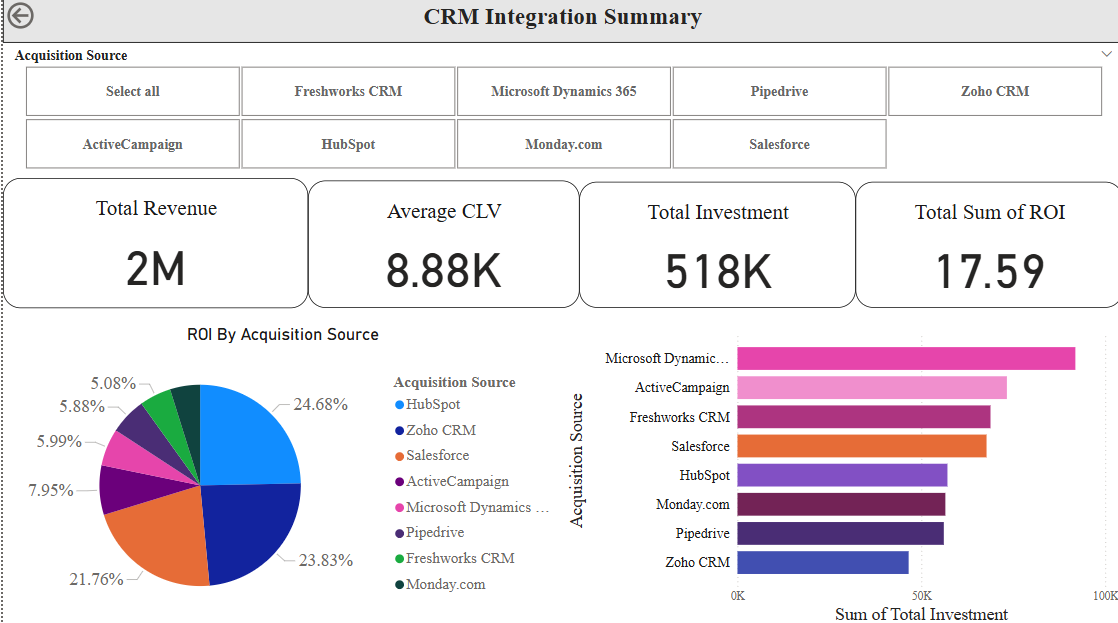

What the dashboard file says about the page in this screenshot:
{"tool":"powerbi","page":{"name":"CRM Integration Summary","canvas":[1280,720],"ordinal":0},"visuals":[{"type":"textbox","box":[0,0,1280,51.4],"z":0},{"type":"card","title":"Total Revenue","fields":{"Values":["Sum(CRM_ROI_Enriched.Total Revenue)"]},"box":[0,205.7,348.6,148.6],"z":1000},{"type":"card","title":"Average CLV","fields":{"Values":["Sum(CRM_ROI_Enriched.Avg CLV)"]},"box":[348.6,208.6,310,145.7],"z":2000},{"type":"card","title":"Total Investment","fields":{"Values":["Sum(CRM_ROI_Enriched.Total Investment)"]},"box":[658.6,210,315.7,144.3],"z":3000},{"type":"slicer","fields":{"Values":["CRM_ROI_Enriched.acquisition_source"]},"box":[0,51.2,1280,150],"z":4000},{"type":"card","title":"Total Sum of ROI","fields":{"Values":["Sum(CRM_ROI_Enriched.ROI)"]},"box":[974.3,210,305.7,144.3],"z":5000},{"type":"actionButton","box":[0,0,100,40],"z":6000},{"type":"pieChart","title":"ROI By Acquisition Source","fields":{"Category":["CRM_ROI_Enriched.acquisition_source"],"Y":["Sum(CRM_ROI_Enriched.ROI)"]},"box":[0,372.9,640,347.1],"z":7000},{"type":"barChart","fields":{"Category":["CRM_ROI_Enriched.acquisition_source"],"Y":["Sum(CRM_ROI_Enriched.Total Investment)"]},"box":[640,372.9,640,347.1],"z":8000}]}

Visuals, with their boxes on the page's 1280x720 design canvas (x1, y1, x2, y2). These are canvas units, not pixel positions in the 1118x623 screenshot, which may show the page scaled, cropped or inside an application window:
textbox: x1=0, y1=0, x2=1280, y2=51
"Total Revenue" card: x1=0, y1=206, x2=349, y2=354
"Average CLV" card: x1=349, y1=209, x2=659, y2=354
"Total Investment" card: x1=659, y1=210, x2=974, y2=354
slicer - CRM_ROI_Enriched.acquisition_source: x1=0, y1=51, x2=1280, y2=201
"Total Sum of ROI" card: x1=974, y1=210, x2=1280, y2=354
actionButton: x1=0, y1=0, x2=100, y2=40
"ROI By Acquisition Source" pieChart: x1=0, y1=373, x2=640, y2=720
barChart - CRM_ROI_Enriched.acquisition_source x Sum(CRM_ROI_Enriched.Total Investment): x1=640, y1=373, x2=1280, y2=720
